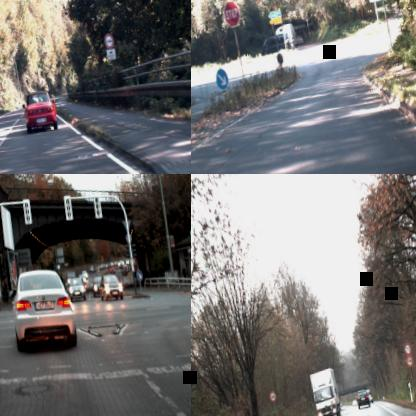STOP: (221, 0, 240, 27)
keep right: (214, 67, 229, 90), (135, 269, 143, 281)
no overtaking (trucks): (103, 32, 114, 49), (404, 354, 414, 367), (268, 390, 276, 402)
speed limit 70: (403, 342, 412, 355)
